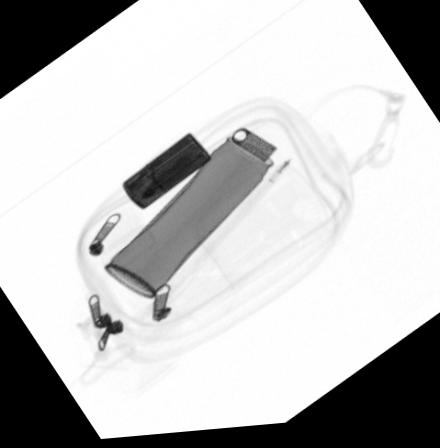Lighter: (121, 135, 212, 212)
